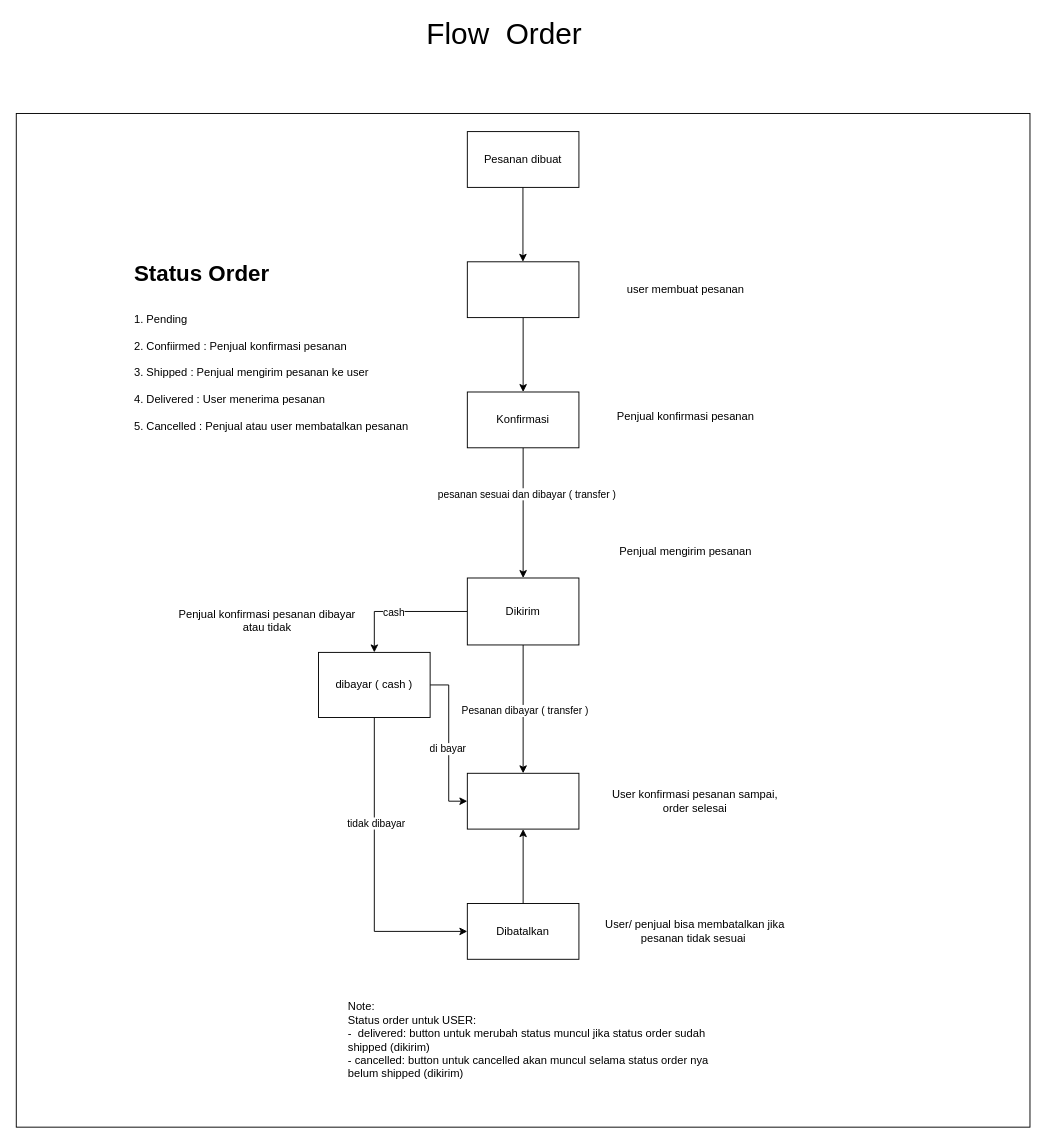
Image size: 1046x1143. Some labels were removed from this diagram. Each missing label, with the box of its shape:
Pending: (466, 261, 579, 318)
Pesanan Sampai: (466, 772, 579, 829)
